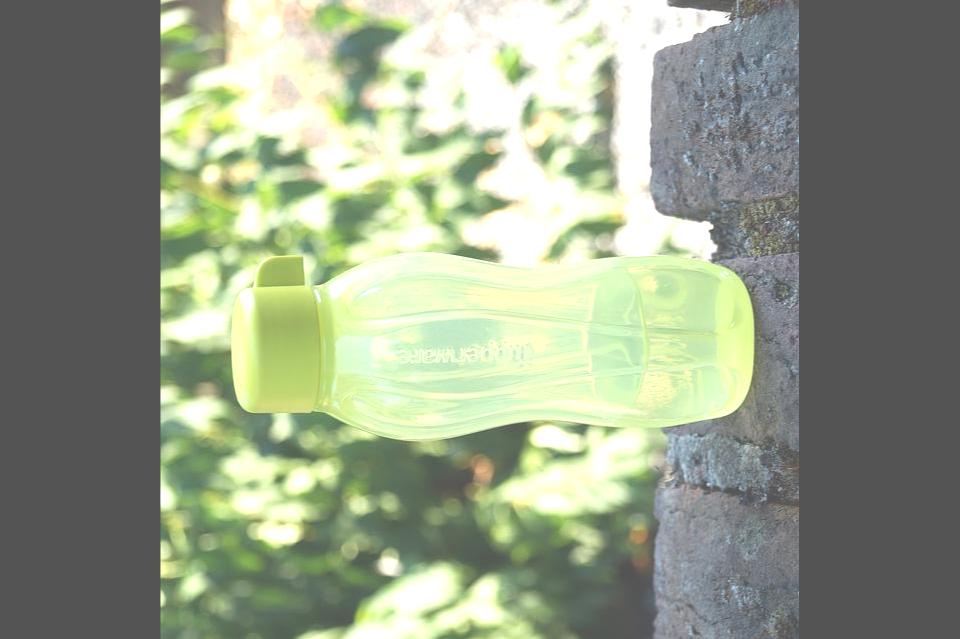bottle: (219, 205, 770, 458)
